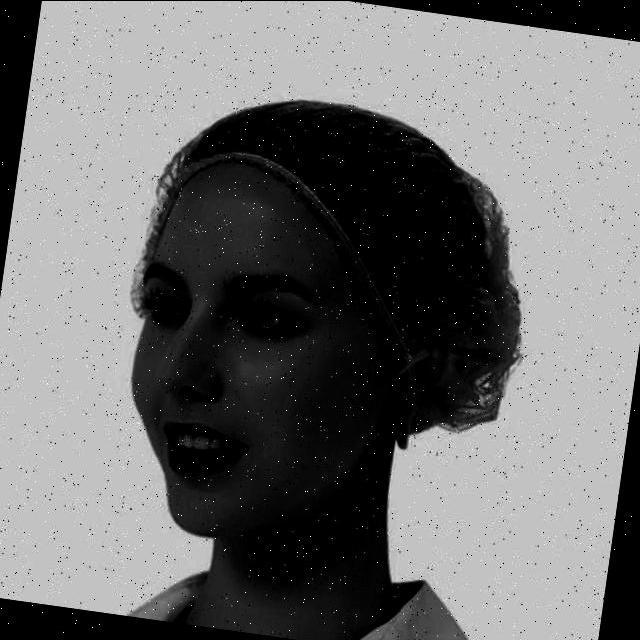gloves: (154, 78, 552, 332)
no_hairnet: (148, 366, 301, 498)
